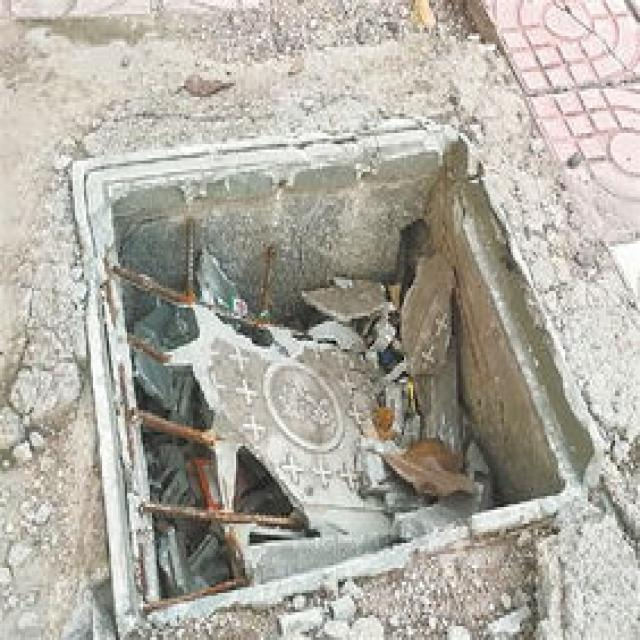manhole: (71, 122, 592, 640)
